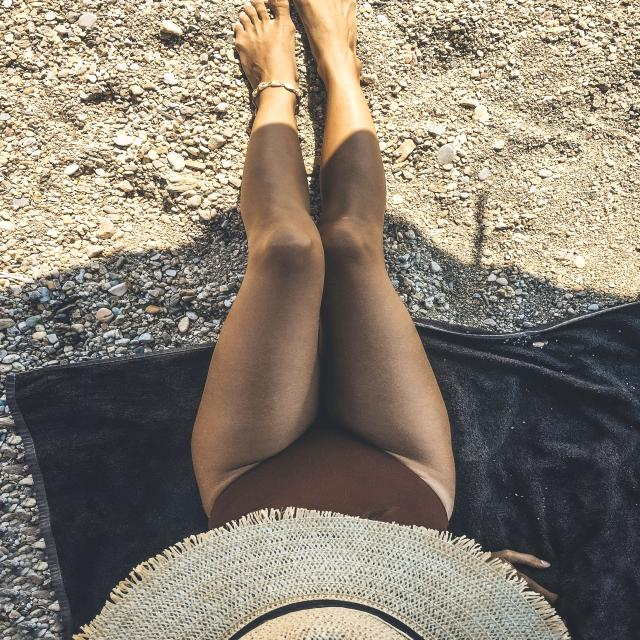piel: (292, 0, 458, 521), (187, 0, 326, 519)
